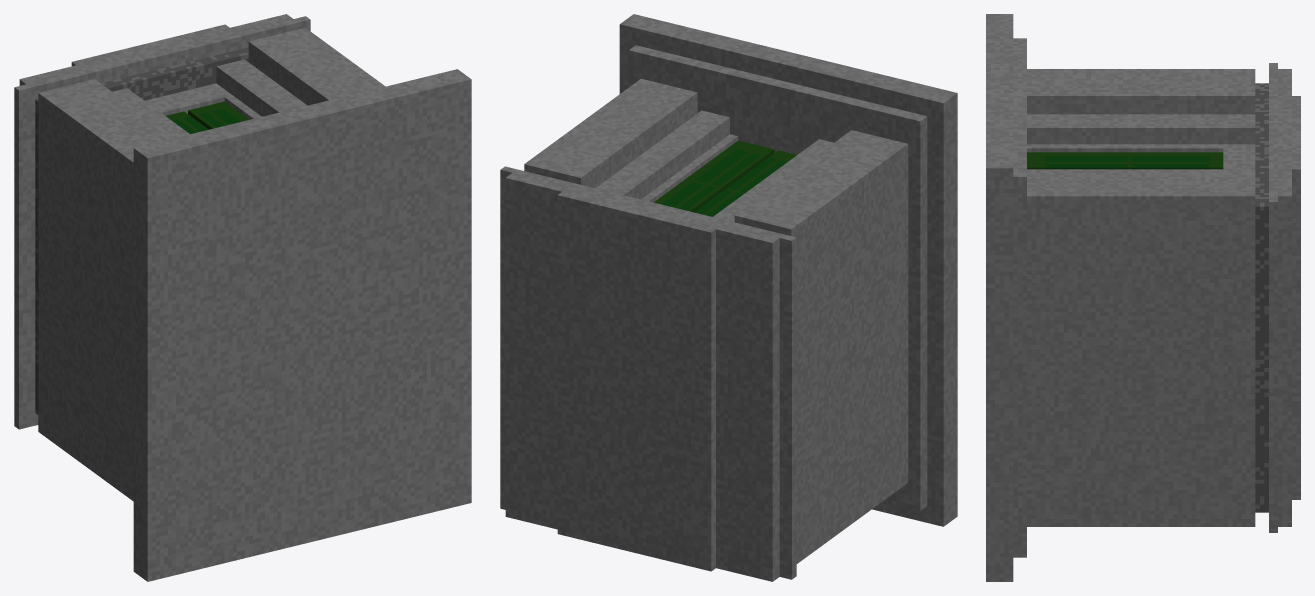
The model's file is AllSimpleModel-12-Masoleum2.obj.
3 renders of one model, left to right at view 1: azimuth 30°, elevation 25°; view 2: azimuth 150°, elevation 25°; view 3: azimuth 270°, elevation 25°, orthographic. The views are drawn at different scales.
Parts seen in each view (by area): view 1: Masoleum2; view 2: Masoleum2; view 3: Masoleum2.
Part boxes in pixels (x1=…): Masoleum2: x1=14, y1=14, x2=471, y2=581; Masoleum2: x1=500, y1=14, x2=957, y2=581; Masoleum2: x1=986, y1=14, x2=1300, y2=581.
Size of the model in its own units: 8 by 10 by 6.9.
1 material, 1 textured.
